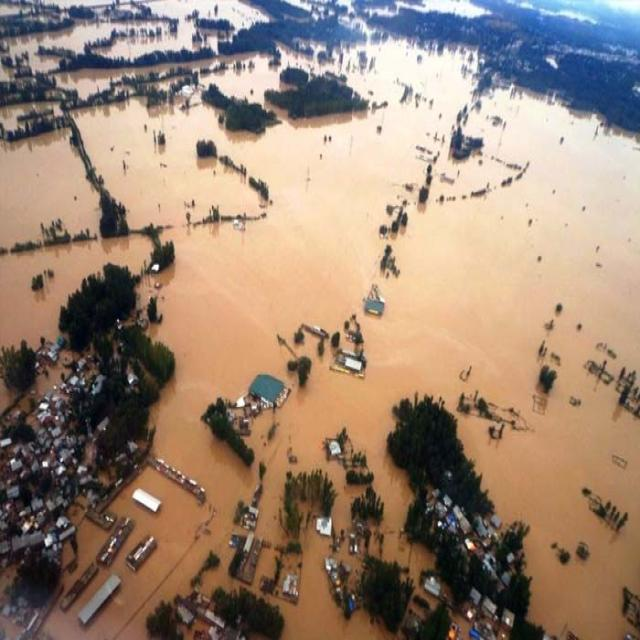flooded_areas: (201, 212, 591, 638), (0, 8, 591, 214), (5, 283, 199, 631)
